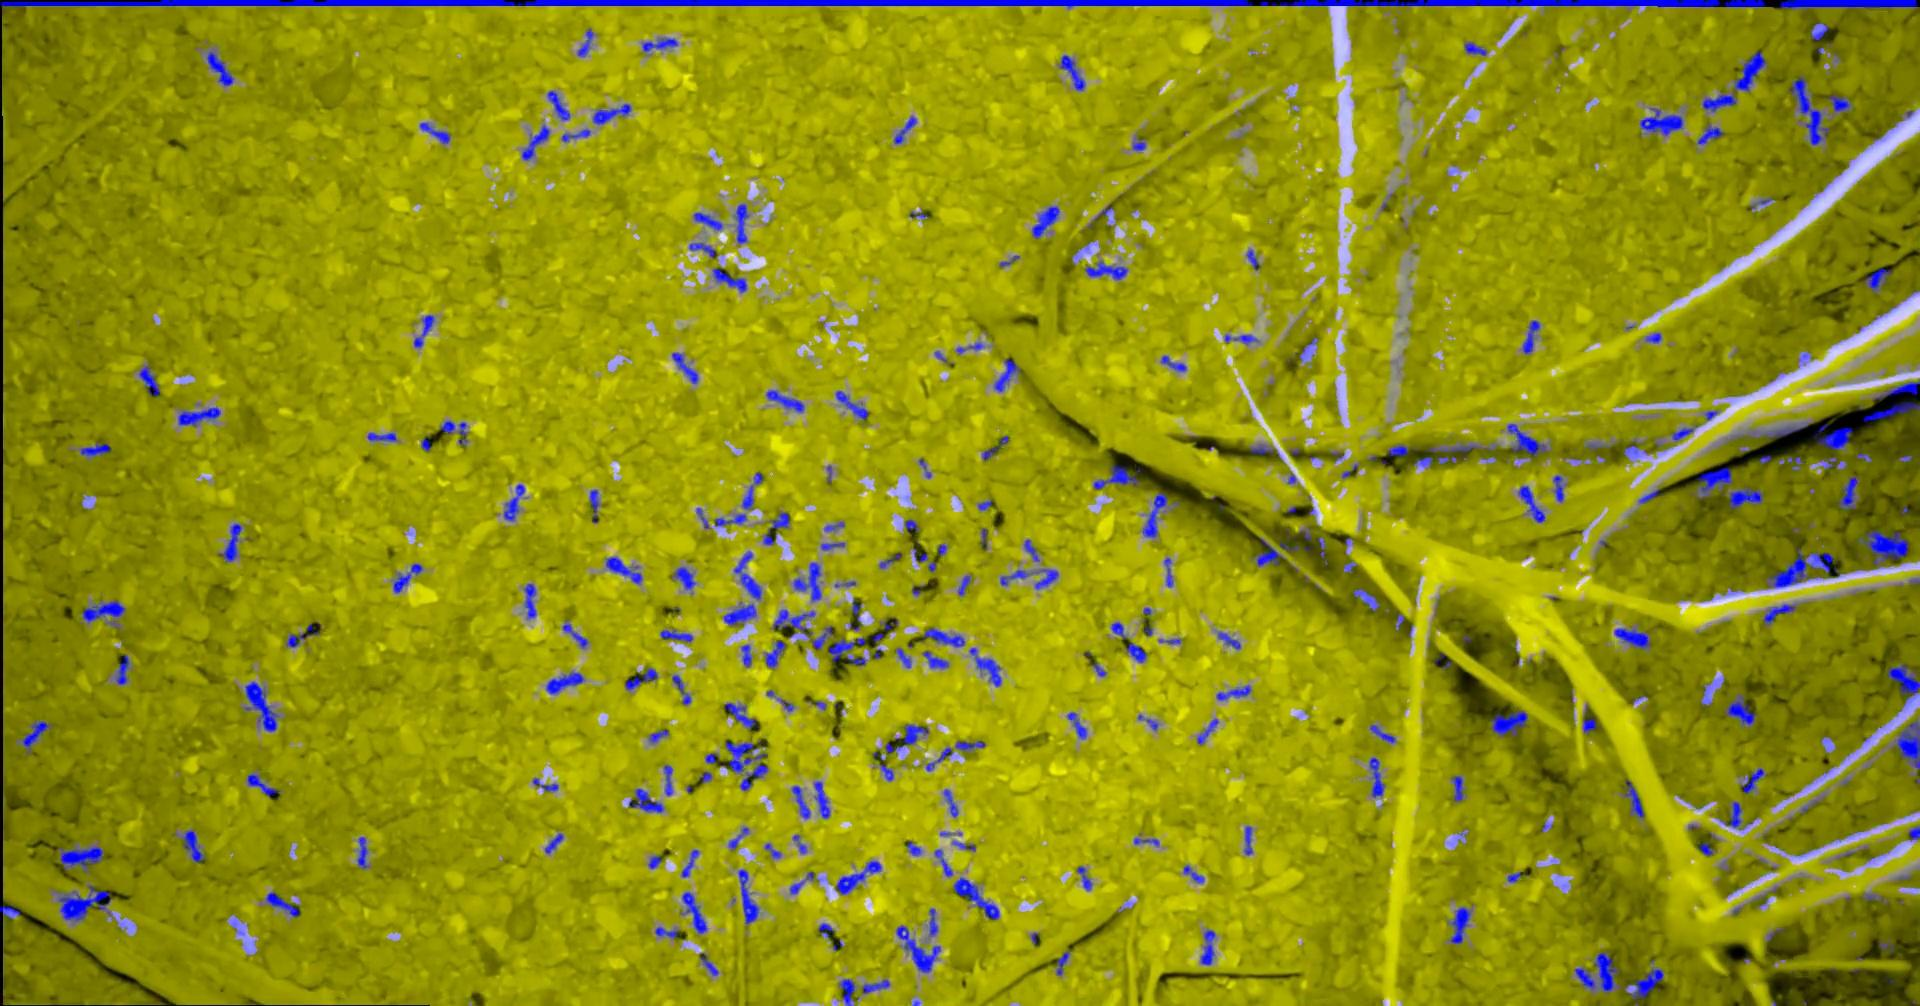ant: (1766, 547, 1843, 587), (1788, 76, 1829, 145), (721, 741, 767, 790), (895, 925, 940, 972), (952, 876, 998, 920), (1857, 528, 1909, 564), (58, 885, 110, 920), (1575, 951, 1618, 992), (244, 681, 277, 730), (1779, 0, 1919, 11), (1620, 968, 1663, 1005), (836, 860, 881, 894), (733, 551, 761, 600), (1886, 664, 1919, 704), (1413, 445, 1477, 465), (885, 724, 928, 753), (1507, 423, 1545, 456), (1733, 51, 1765, 90), (969, 647, 1001, 686), (1639, 107, 1683, 135), (1895, 719, 1919, 768), (1093, 464, 1139, 489), (1142, 492, 1167, 537), (773, 608, 814, 636), (58, 846, 103, 871), (792, 561, 822, 600), (738, 869, 758, 923), (681, 890, 706, 934), (1862, 401, 1919, 420), (1697, 466, 1731, 498), (828, 636, 865, 666), (1517, 485, 1545, 522), (1813, 423, 1853, 448), (521, 124, 549, 160), (81, 600, 124, 622), (604, 556, 641, 583), (1490, 710, 1528, 735), (836, 390, 869, 419), (1873, 379, 1919, 399), (206, 51, 232, 85), (723, 702, 757, 729), (1059, 55, 1084, 90), (1724, 696, 1755, 725), (20, 720, 50, 751), (670, 352, 698, 384), (265, 890, 298, 917), (711, 267, 745, 292), (1031, 206, 1058, 238), (762, 512, 789, 544), (629, 788, 663, 812), (592, 103, 630, 124), (1084, 260, 1128, 279), (177, 406, 220, 426), (545, 672, 583, 694), (1256, 537, 1285, 565), (1624, 779, 1644, 818), (922, 627, 964, 647), (766, 390, 803, 412), (1728, 486, 1763, 509), (221, 523, 241, 561), (503, 484, 524, 520), (1614, 627, 1650, 649), (994, 359, 1018, 391), (286, 622, 317, 647), (182, 829, 204, 862), (248, 774, 279, 796), (1450, 907, 1470, 942), (413, 314, 434, 347), (723, 603, 756, 625), (623, 667, 657, 688), (1763, 423, 1808, 438), (1863, 267, 1891, 291), (419, 122, 450, 144), (1837, 475, 1857, 509), (1368, 757, 1384, 796), (138, 365, 159, 396), (439, 420, 466, 445), (982, 434, 1008, 459), (893, 116, 916, 144), (924, 747, 952, 770), (547, 90, 569, 119), (1763, 605, 1796, 624), (813, 781, 829, 818), (872, 751, 893, 780), (791, 785, 809, 818), (563, 622, 587, 647), (1352, 588, 1379, 610), (670, 674, 690, 704), (1702, 94, 1735, 111), (1523, 320, 1539, 353), (1217, 683, 1250, 700), (1697, 123, 1723, 144), (764, 640, 785, 667), (1196, 718, 1217, 744), (1724, 801, 1743, 829), (1034, 568, 1058, 589), (1742, 767, 1763, 793), (735, 203, 748, 243), (693, 212, 721, 230), (681, 848, 698, 876), (935, 848, 952, 876), (1200, 929, 1214, 964), (673, 567, 695, 589), (1067, 713, 1086, 738), (922, 650, 949, 668), (1369, 724, 1396, 742), (80, 441, 110, 456), (811, 626, 832, 649), (577, 28, 593, 56), (1001, 569, 1029, 586), (698, 951, 717, 976), (728, 827, 748, 848), (643, 38, 677, 51), (116, 654, 130, 683), (1217, 631, 1239, 649), (839, 978, 855, 1005), (714, 513, 745, 526), (660, 629, 692, 641), (1161, 354, 1185, 371), (861, 979, 889, 993), (1126, 641, 1145, 662), (543, 833, 563, 854), (356, 836, 367, 869), (688, 243, 715, 257), (943, 789, 957, 815), (1250, 445, 1279, 457), (1076, 866, 1091, 890), (392, 573, 410, 593), (524, 583, 535, 619), (1829, 94, 1850, 111), (561, 128, 589, 141), (1055, 950, 1069, 976), (1810, 22, 1829, 39), (589, 489, 599, 522), (1638, 488, 1660, 503), (1023, 539, 1039, 560), (850, 597, 860, 629), (532, 777, 557, 790), (879, 553, 902, 567), (1183, 865, 1203, 882), (1451, 775, 1463, 801), (1780, 456, 1802, 470), (1224, 334, 1257, 343), (1552, 475, 1563, 500), (0, 904, 20, 918), (663, 763, 672, 795), (742, 485, 753, 509), (1464, 42, 1486, 55), (1671, 427, 1693, 439), (1822, 456, 1844, 469), (897, 648, 910, 667), (649, 728, 668, 742), (792, 835, 806, 854), (1385, 445, 1408, 456), (367, 432, 396, 441), (955, 741, 984, 749), (1246, 249, 1258, 269), (1111, 621, 1126, 638), (1163, 558, 1172, 586), (1243, 826, 1252, 854), (817, 923, 834, 937), (655, 926, 677, 937), (928, 908, 937, 935), (952, 841, 975, 851), (740, 644, 750, 666), (957, 575, 969, 594), (905, 841, 921, 855), (764, 843, 780, 857), (1583, 716, 1596, 733), (1698, 841, 1712, 855), (1879, 937, 1893, 951), (1133, 837, 1158, 845), (820, 542, 844, 550), (1131, 137, 1145, 150), (648, 855, 662, 868), (1644, 332, 1661, 342), (705, 752, 717, 763), (904, 520, 918, 530), (1909, 826, 1919, 840)
